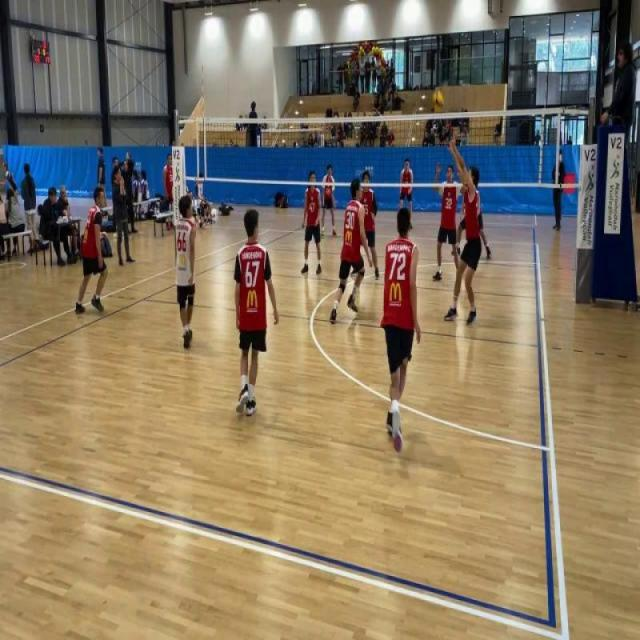volleyball: (432, 89, 444, 112), (100, 230, 108, 238)
